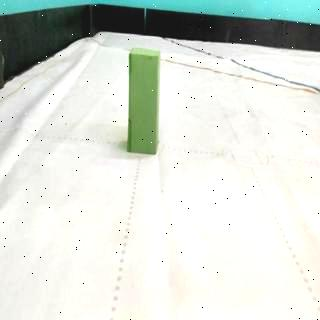greenbox: (126, 44, 164, 157)
